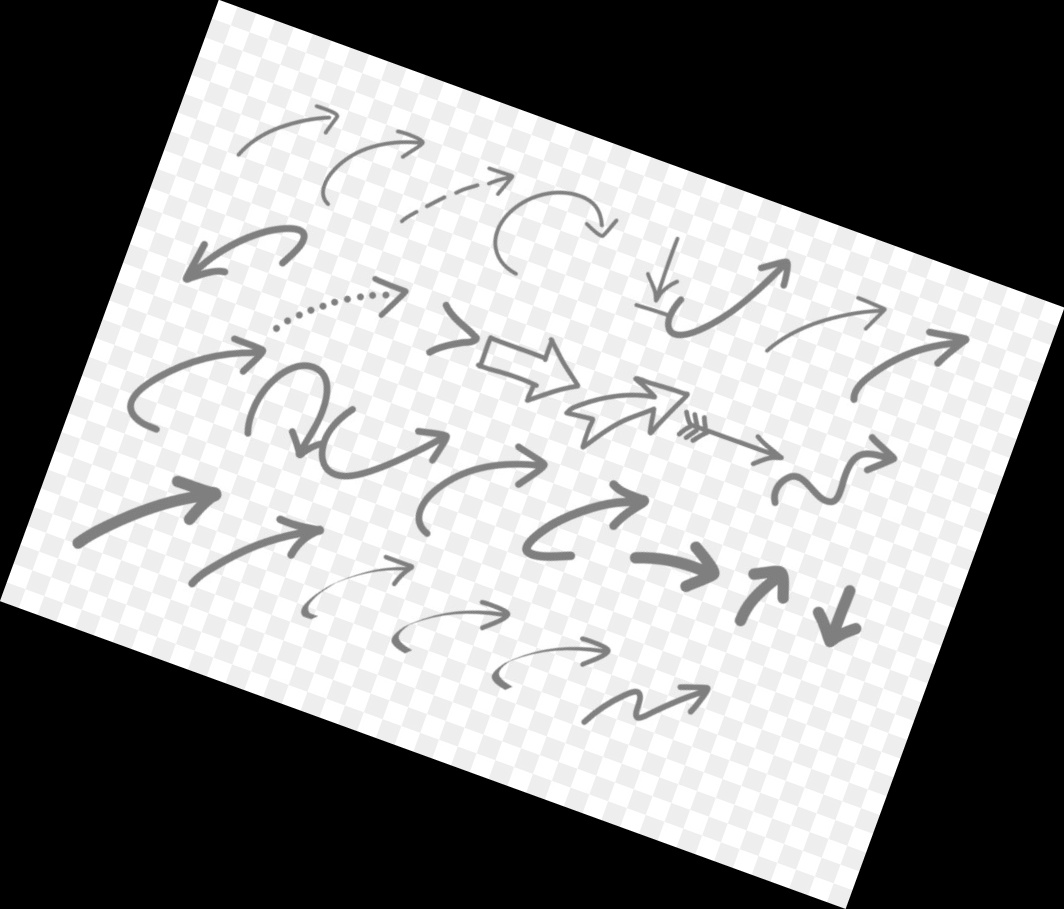arrow: (478, 324, 582, 405), (590, 369, 691, 441), (460, 439, 551, 497), (141, 475, 233, 531), (566, 477, 653, 536), (179, 225, 260, 287), (235, 514, 330, 565), (881, 326, 976, 375), (648, 535, 722, 597), (724, 256, 796, 314), (325, 275, 413, 322), (370, 420, 451, 470), (802, 292, 896, 335), (531, 630, 619, 674), (187, 332, 267, 380), (435, 594, 516, 639), (429, 159, 517, 200), (812, 594, 871, 653), (342, 552, 424, 592), (721, 421, 786, 471), (347, 123, 429, 162), (657, 677, 715, 728), (743, 563, 795, 618), (273, 100, 343, 138), (853, 429, 904, 480), (563, 199, 623, 242), (642, 250, 683, 304), (289, 403, 324, 463)
